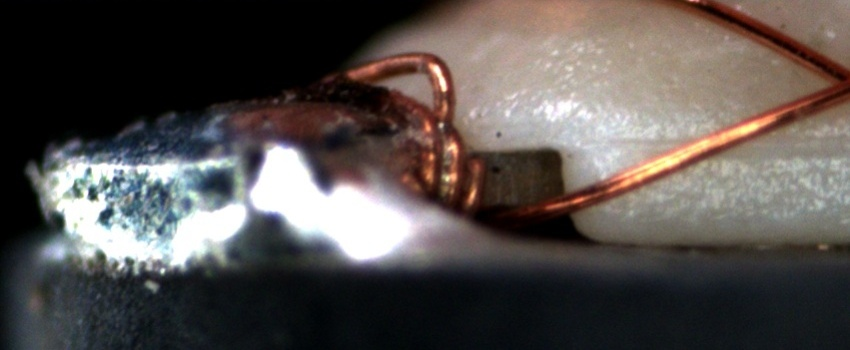CL: (801, 53, 850, 113)
DL: (623, 110, 849, 171)
TE: (318, 38, 492, 220)
